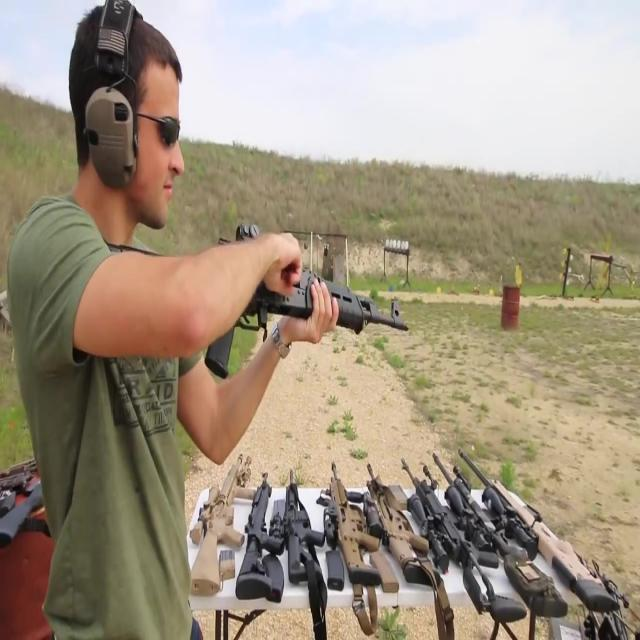Weapon: (170, 436, 640, 640), (69, 205, 429, 378), (0, 372, 99, 625)
